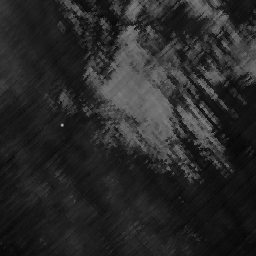Target: (126, 124, 133, 131)
